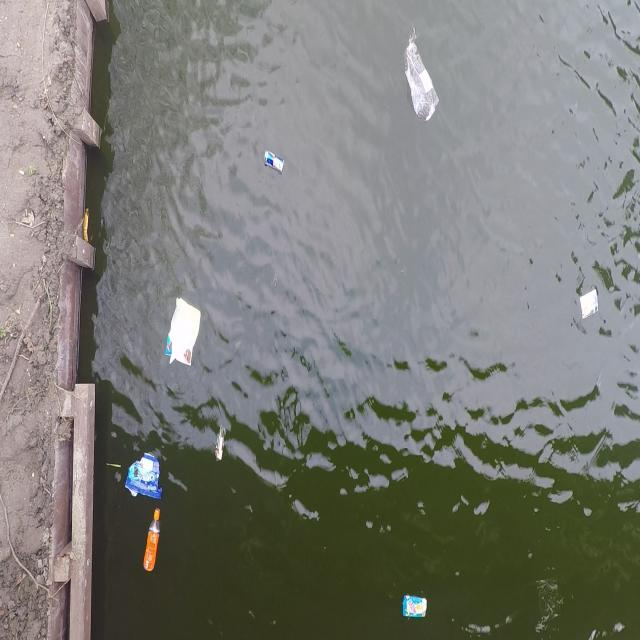Autre plastique: (126, 450, 165, 502), (402, 594, 430, 623)
Bouteille plastique: (142, 507, 164, 577), (215, 425, 227, 466)
Non plastique: (263, 151, 285, 175)
